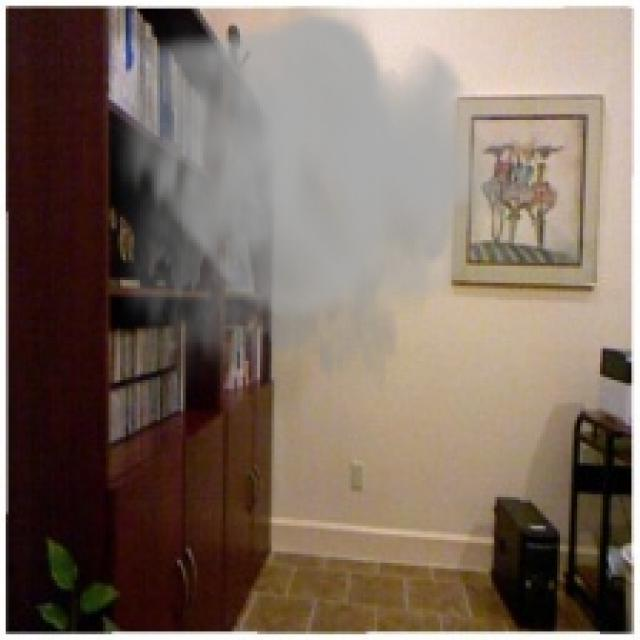smoke: (94, 6, 500, 428)
